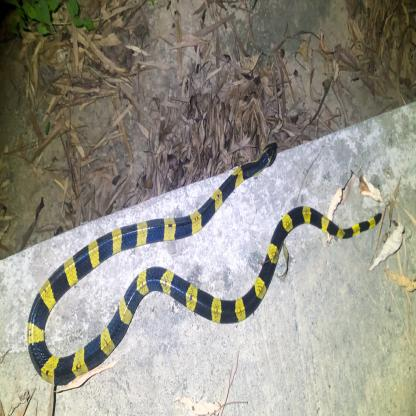Snake: (25, 139, 399, 389)
